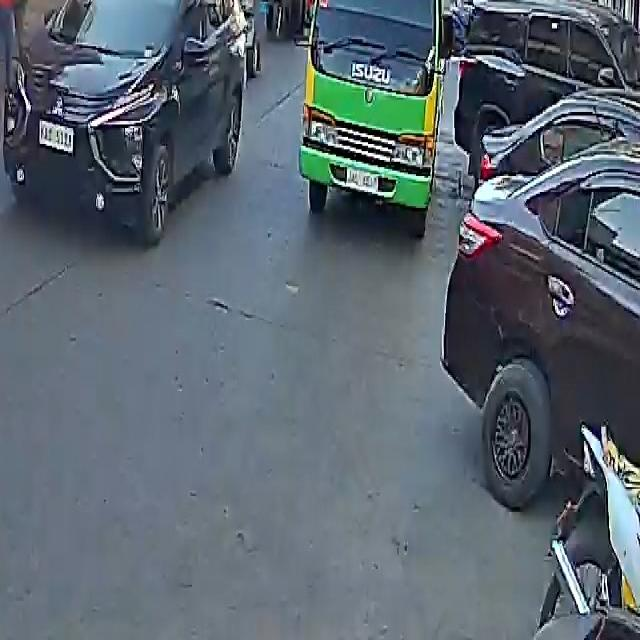car: (444, 153, 640, 527), (0, 0, 252, 245), (442, 0, 639, 192)
